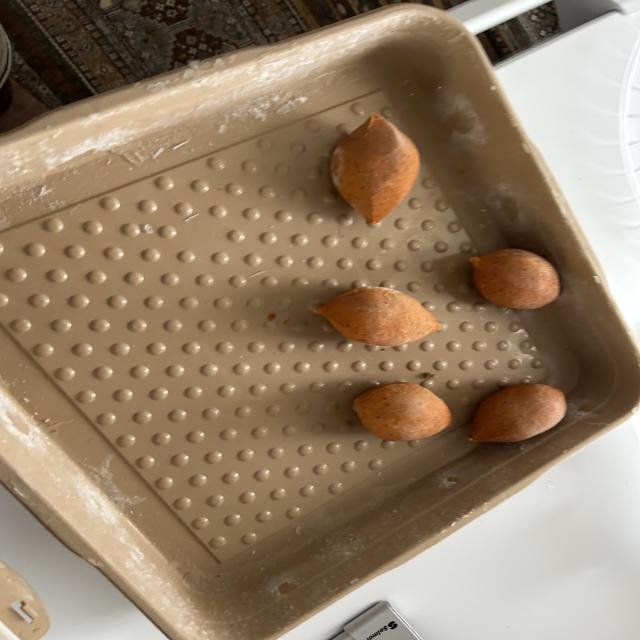kobi: (329, 111, 421, 226), (308, 287, 446, 348), (470, 243, 569, 312), (462, 383, 570, 442), (354, 386, 458, 443)
